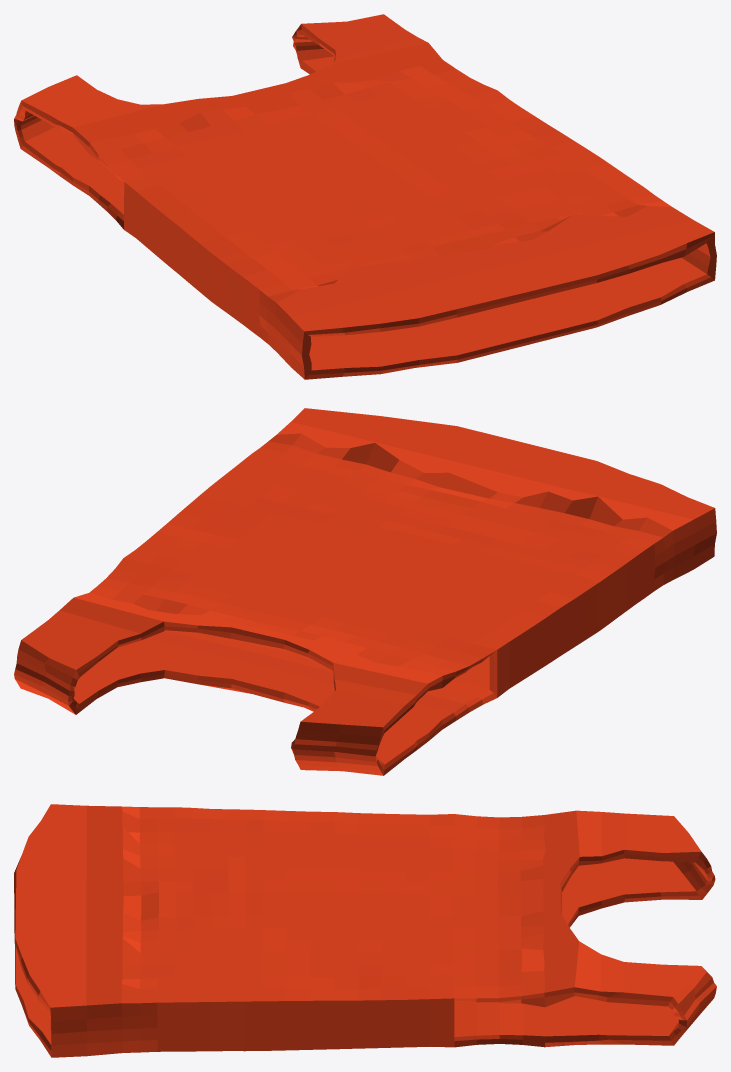
The model's file is Tank Top 1.fbx.
The picture shows the model from 3 angles, top to bottom: view 1: azimuth 30°, elevation 25°; view 2: azimuth 150°, elevation 25°; view 3: azimuth 270°, elevation 25°; orthographic projection.
Parts seen in each view (by area): view 1: Node 0; view 2: Node 0; view 3: Node 0.
Boxes of the visible parts, x1,y1,x2,y2 form: Node 0: (14,14,716,379); Node 0: (14,408,716,775); Node 0: (14,804,716,1057).
Bounding box in the file's own units: 0.9803 × 0.1216 × 0.6778.
